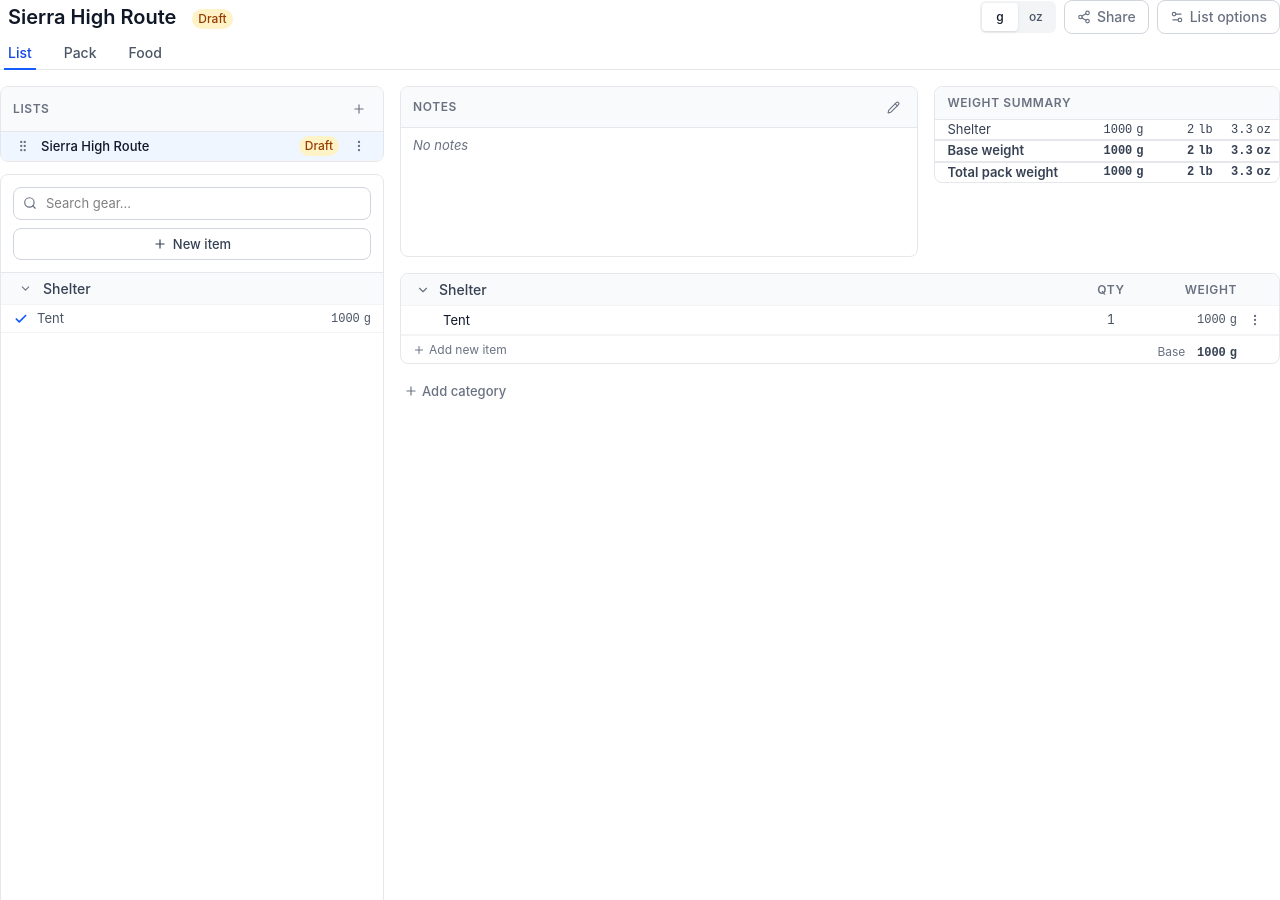
Test case: the edit-gear dialog save › closes on a clean save
The image size is (1280, 900).
Click the button named "Item options" at (1255, 320), box [1243,308,1267,332]
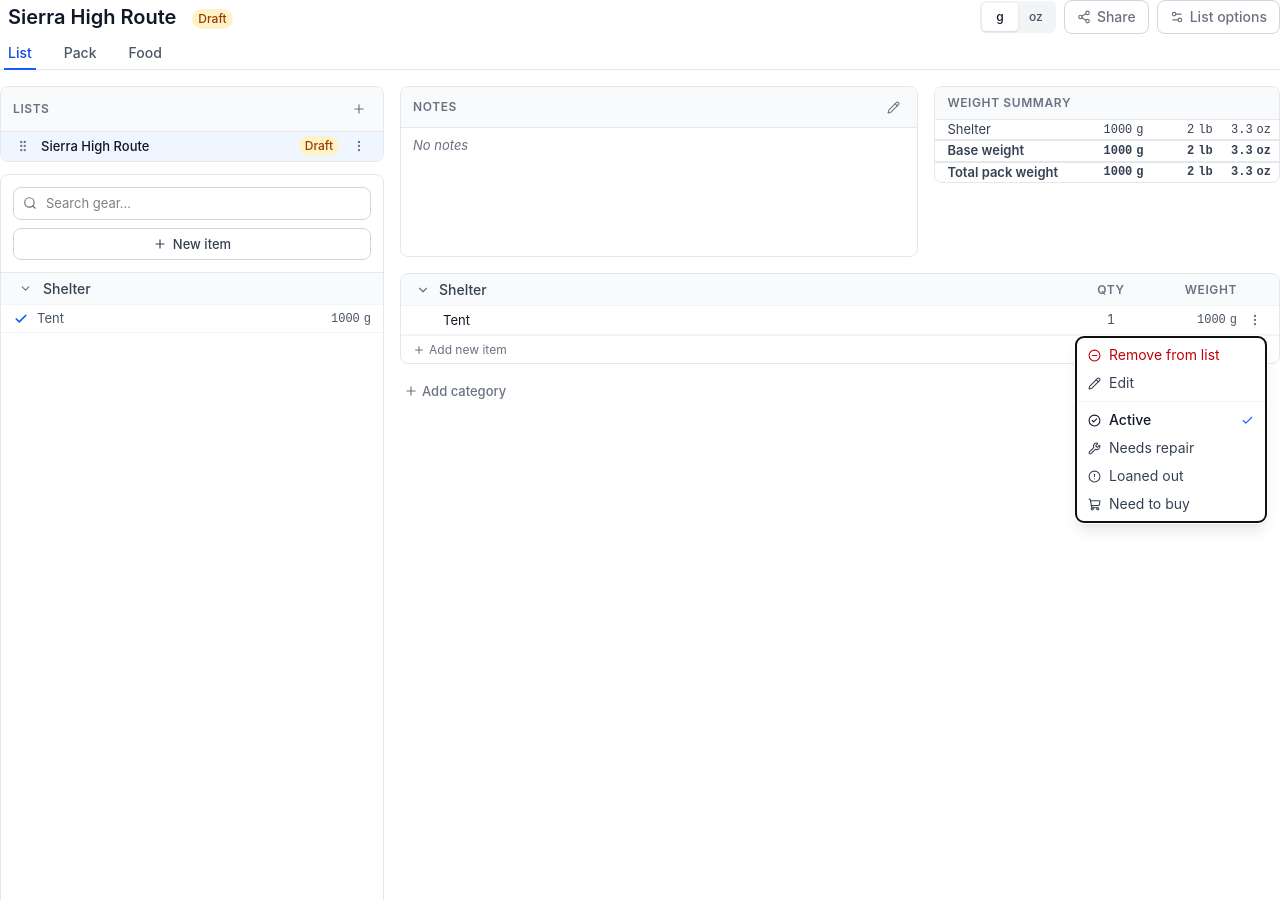
Click the button "Edit" at (1171, 383), box [1076,369,1266,397]
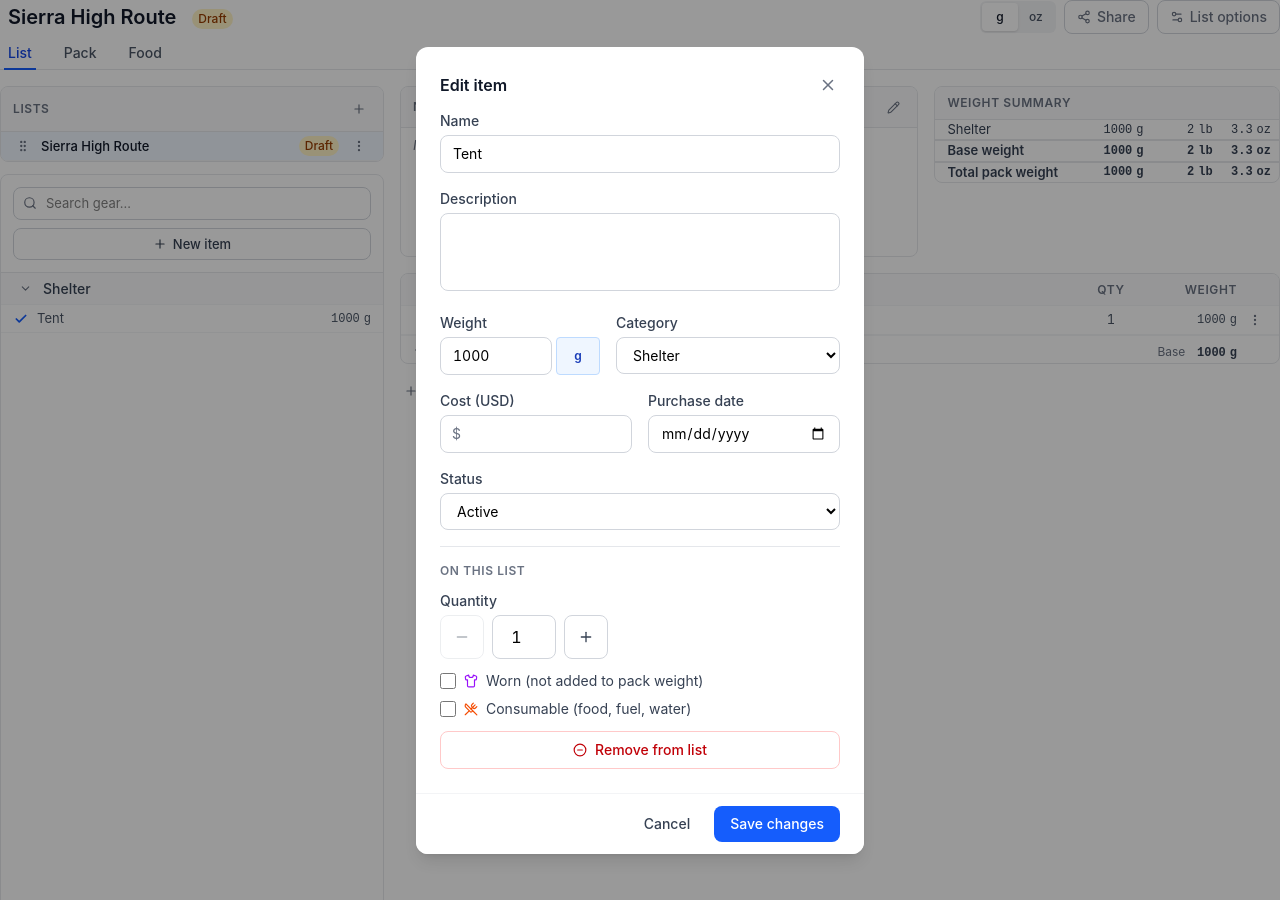
Replace the text in the field labelled "Name" with "Tarp" at (640, 154), box [440,134,840,172]
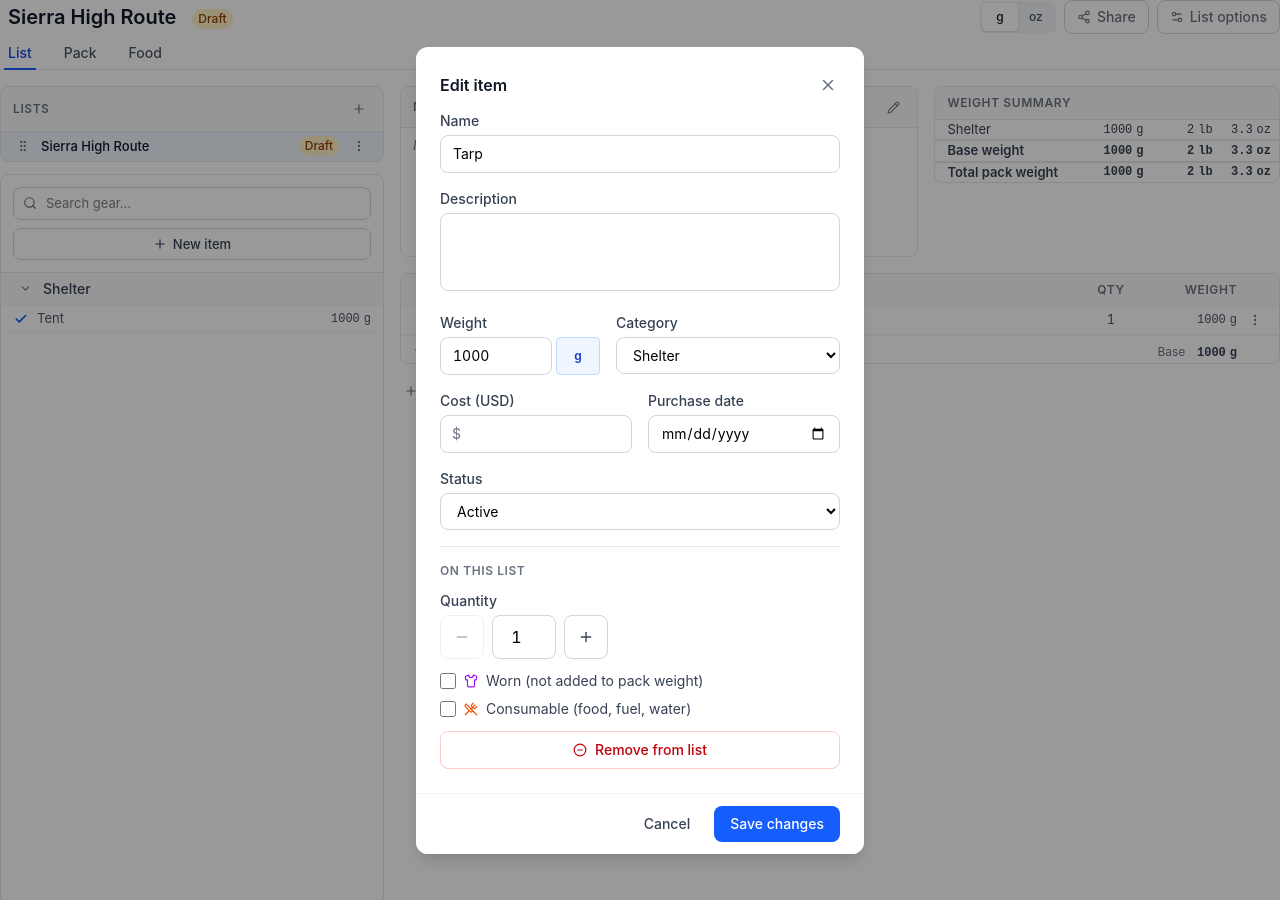
Click the button "Save changes" at (777, 824), box [714,806,840,842]
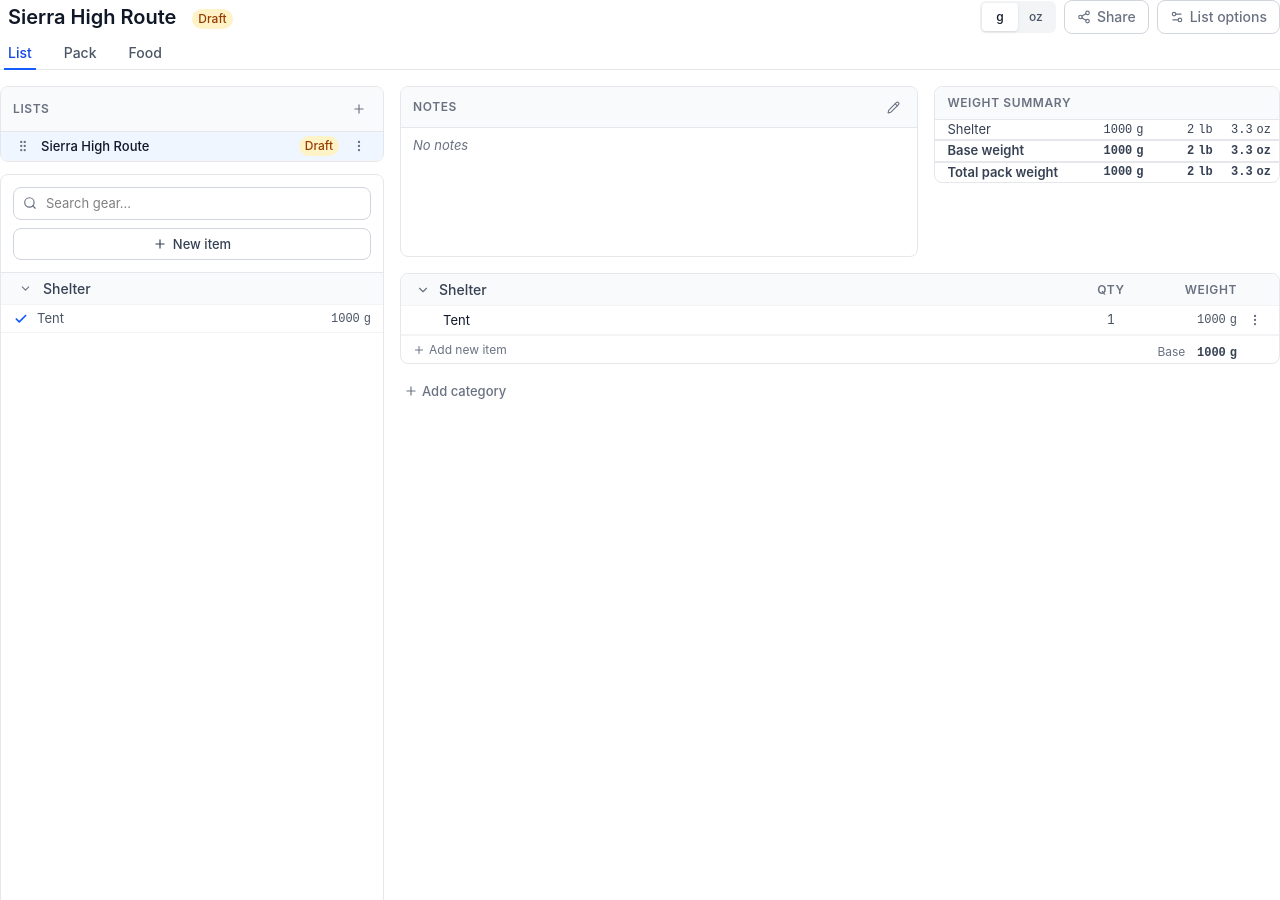
Expected: the heading "Edit item" is gone
